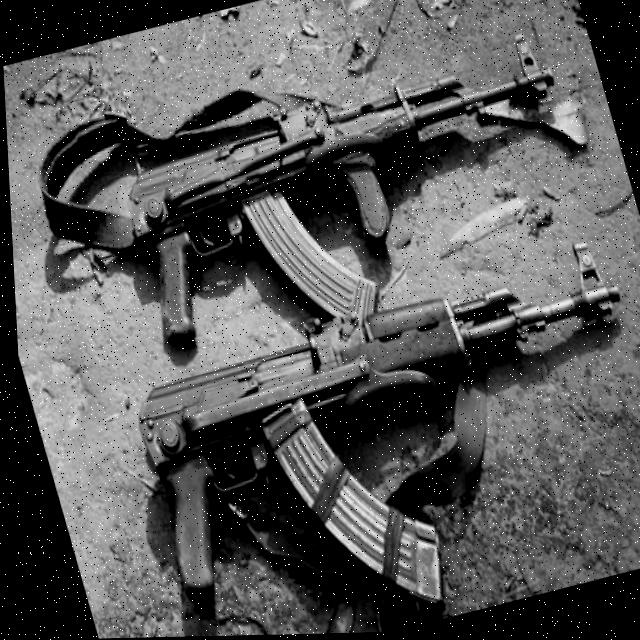firearm: (111, 237, 640, 638), (100, 29, 604, 366)
